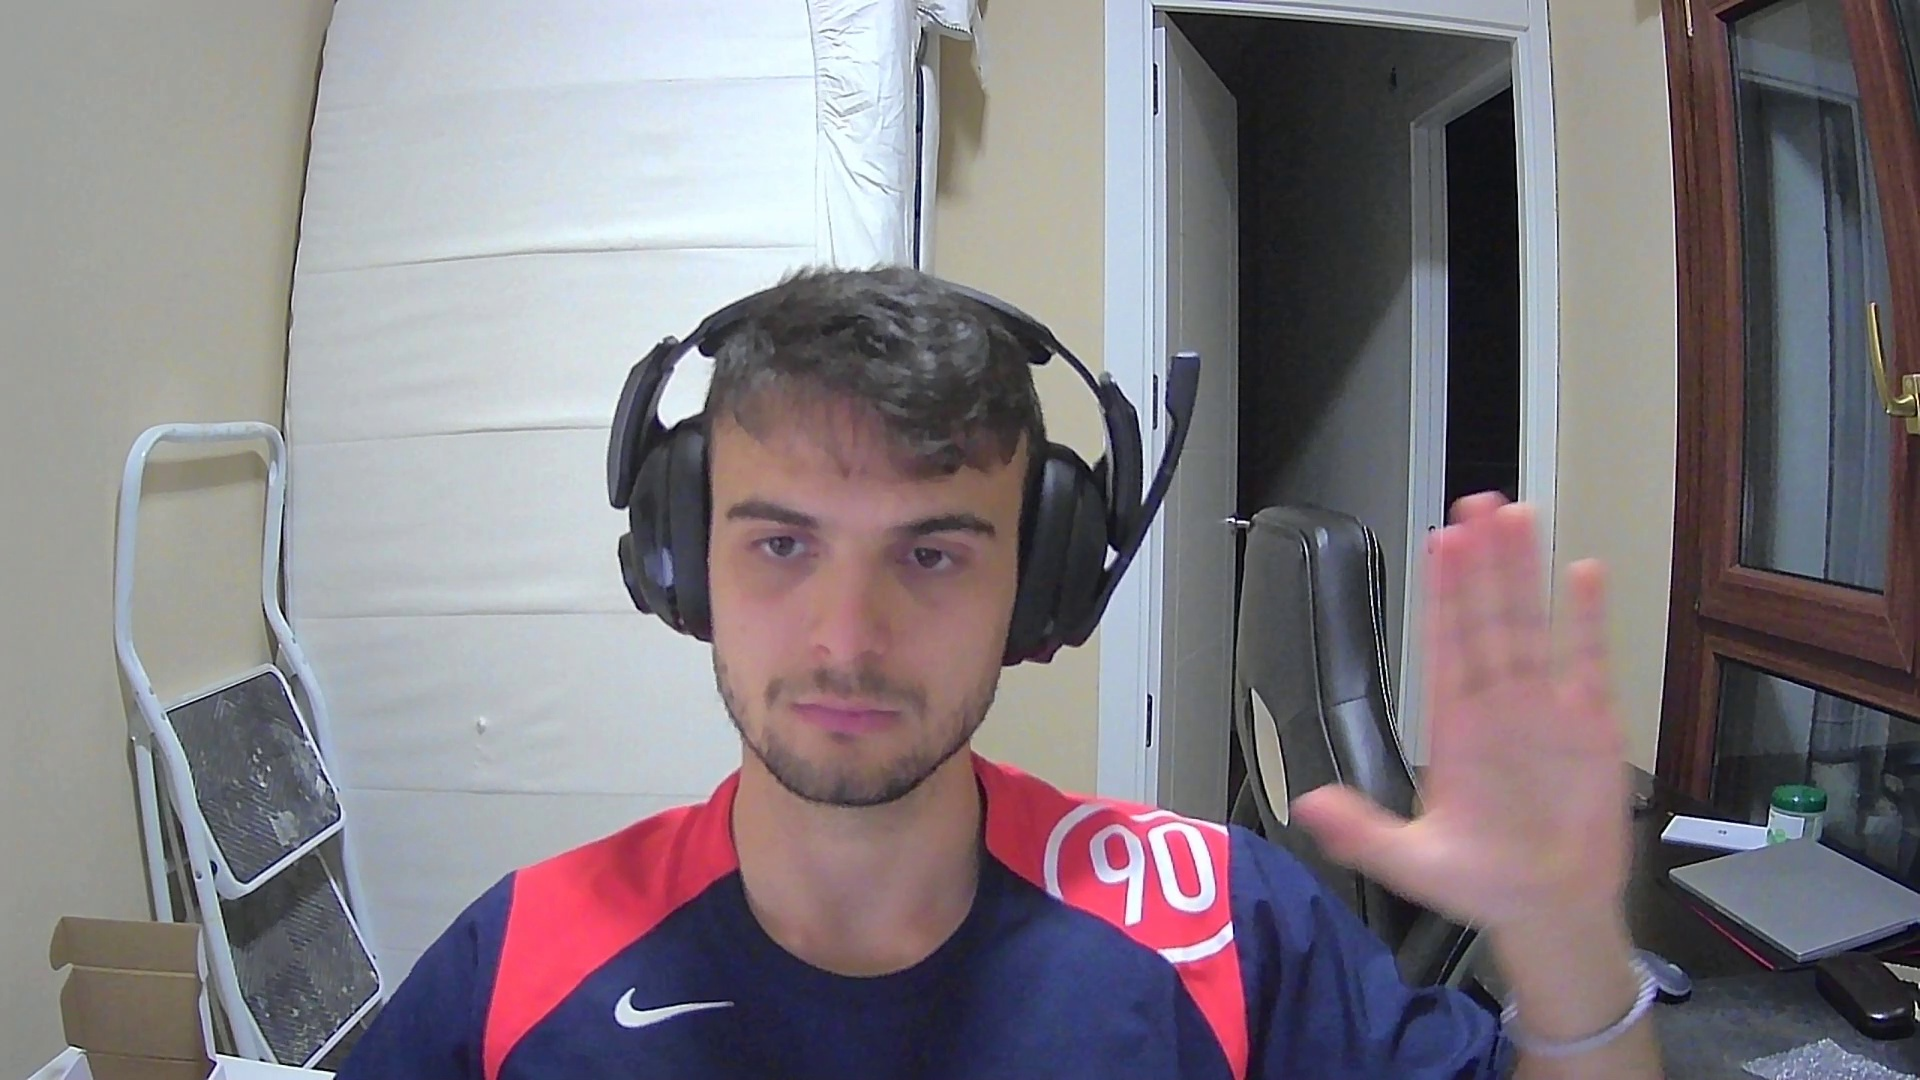Palm: (1284, 491, 1627, 945)
